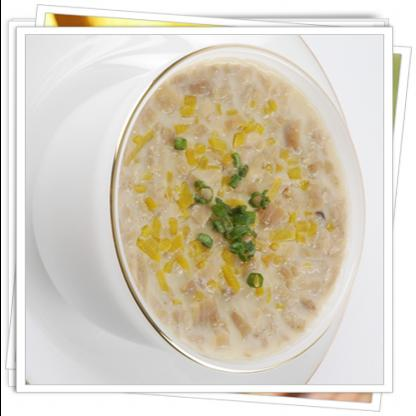Kaithoon: (98, 34, 368, 376)
